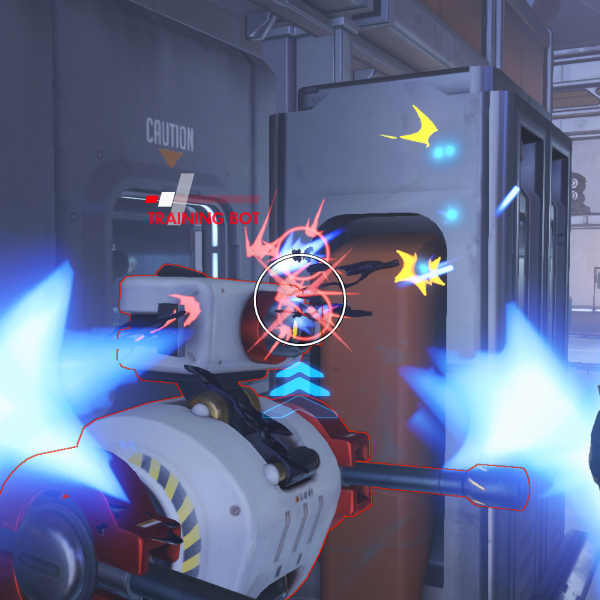hpbar: (145, 195, 261, 204)
